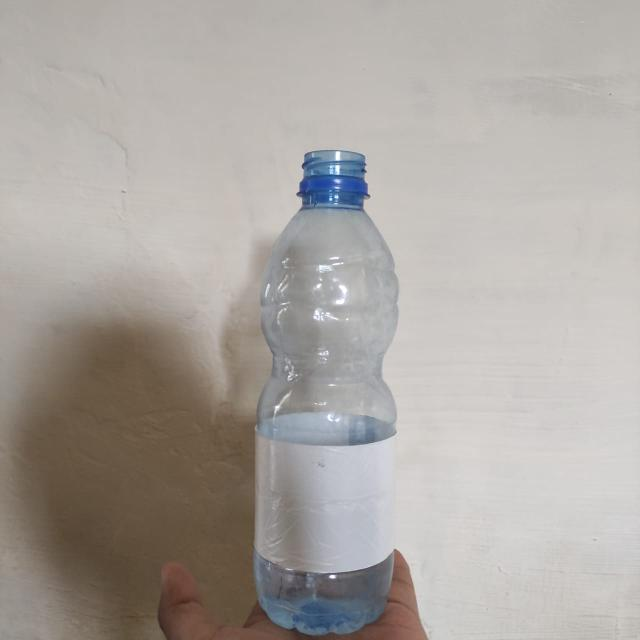bottle: (250, 91, 401, 640)
label: (250, 430, 403, 575)
